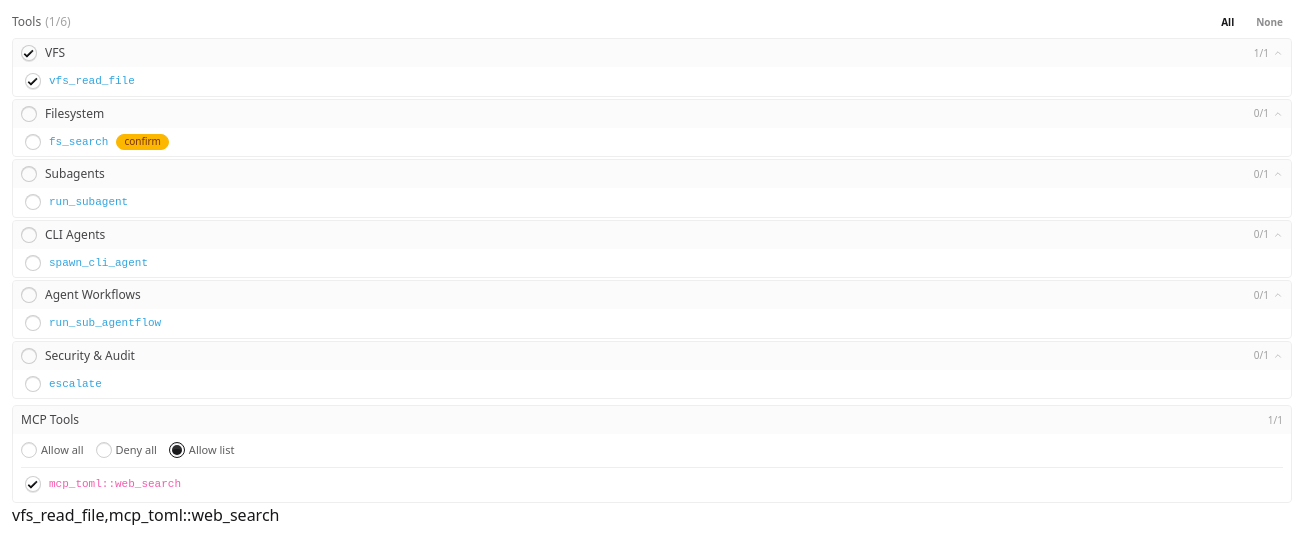
Scenario: PersonaToolPicker › keeps MCP allow-list selections when native All and None controls change native tools
Click the button with test id "tools-enable-all": (1228,22) [1212,12,1243,32]
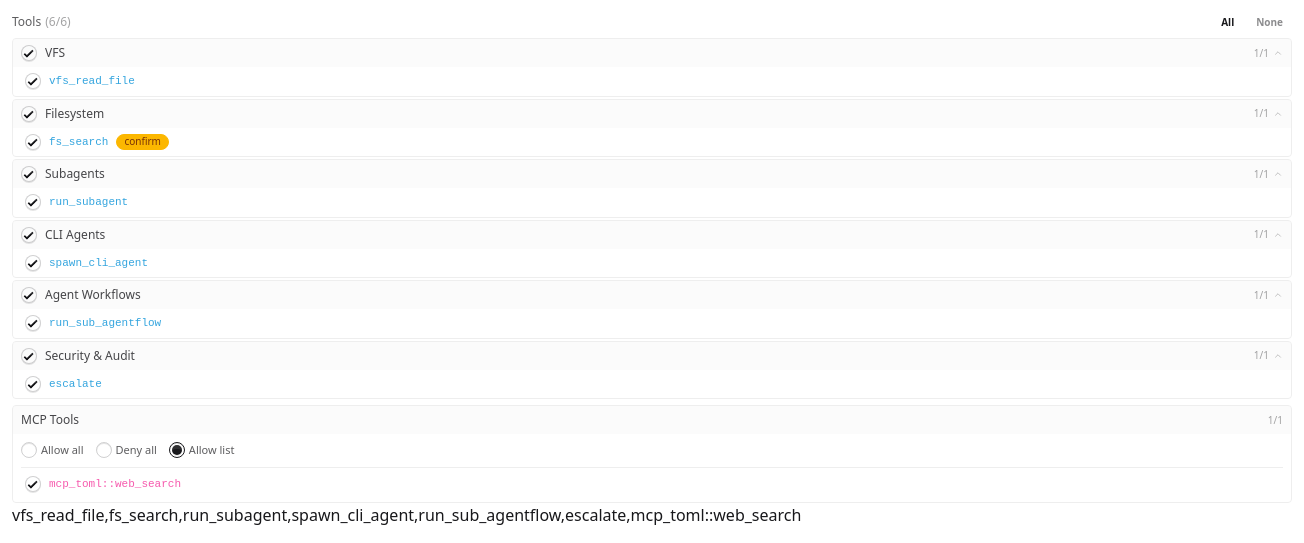
Expected: the text with test id "selected-tools" shows "mcp_toml::web_search", [12,504,801,526]
Result: the text with test id "selected-tools" shows "spawn_cli_agent" at [12,504,801,526]
Click the button with test id "tools-disable-all": (1270,22) [1247,12,1292,32]
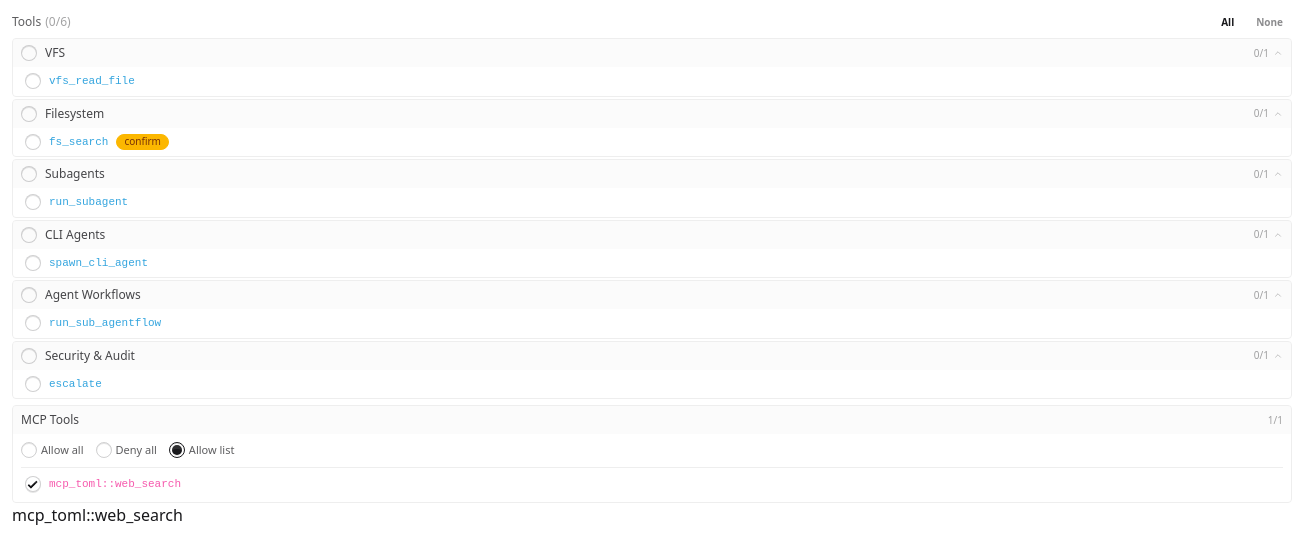
Expected: the text with test id "selected-tools" does not show "vfs_read_file", [12,504,183,526]
Result: the text with test id "selected-tools" reads "mcp_toml::web_search" at [12,504,183,526]
